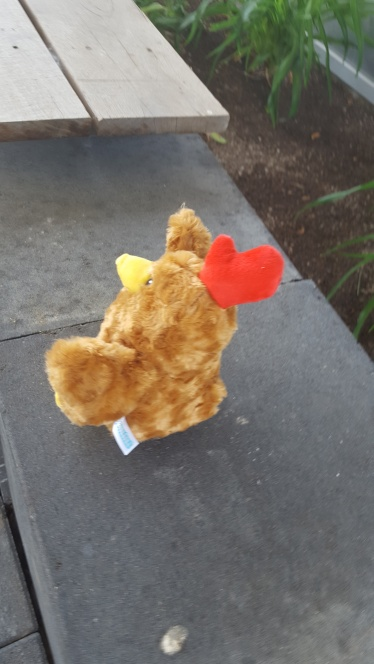chicken_right: (42, 202, 285, 456)
